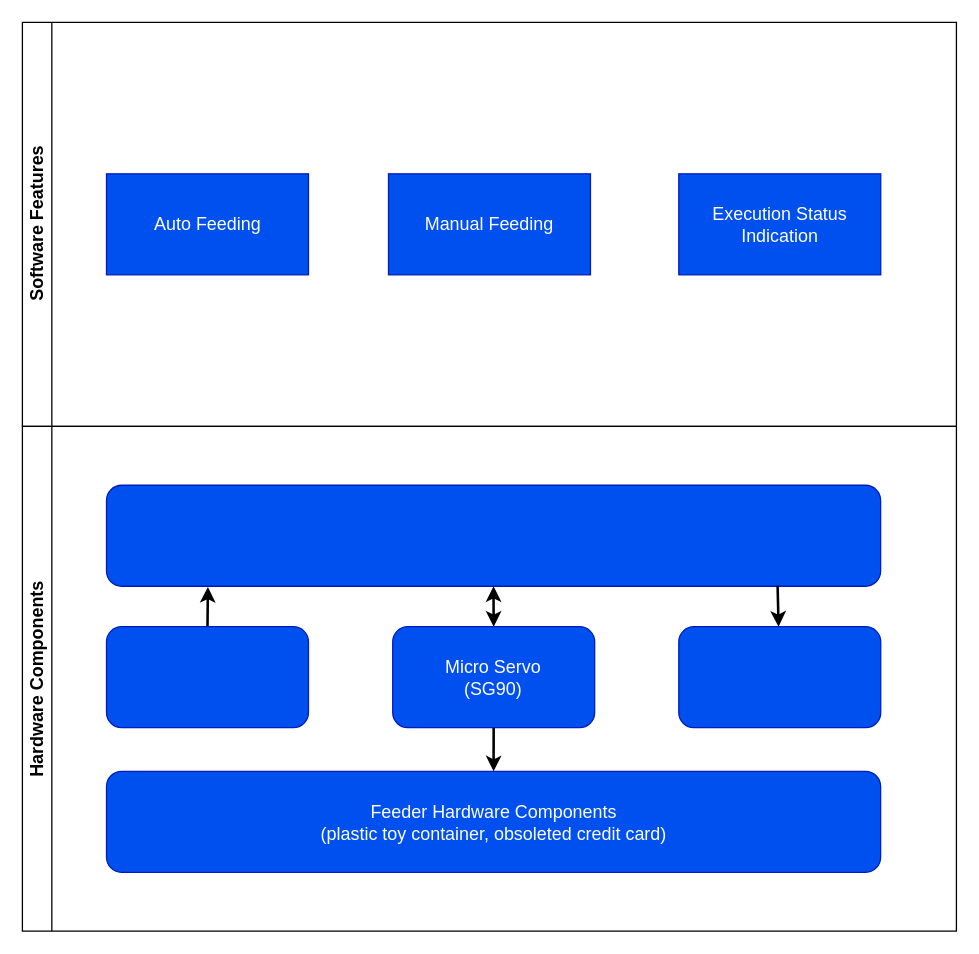
Some shapes in this 979 by 954 pixel diagram are drawn without their labels. Each missing label, with the centre of its shape:
"Arduino UNO Rev.3" goes at [493,535].
"Push Button" goes at [206,676].
"Status LED" goes at [779,676].
